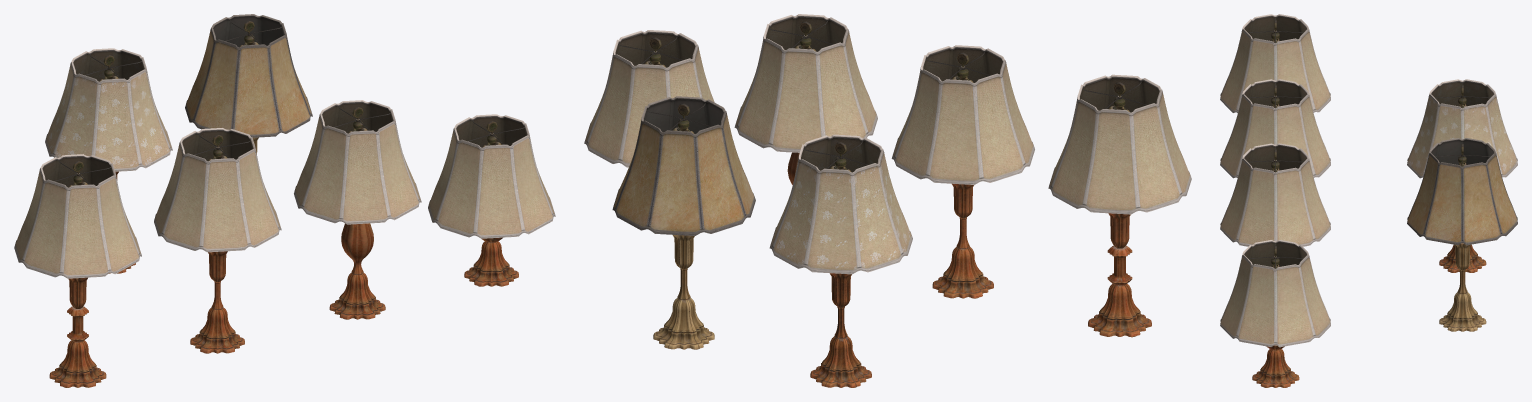
Rendered from 1920s_table_lamps_type_a.glb.
3 views of the same model, side by side, from view 1: azimuth 30°, elevation 25°; view 2: azimuth 150°, elevation 25°; view 3: azimuth 270°, elevation 25° (orthographic). The views are drawn at different scales.
Parts seen in each view (by area): view 1: 1920s Table Lamp Type AC_2, 1920s Table Lamp Type AA_0, 1920s Table Lamp Type AB_1, 1920s Table Lamp Type AD_3, 1920s Table Lamp Type AB Wood Lacquer_5, 1920s Table Lamp Type AB Wood02_4; view 2: 1920s Table Lamp Type AA_0, 1920s Table Lamp Type AB Wood Lacquer_5, 1920s Table Lamp Type AB_1, 1920s Table Lamp Type AB Wood02_4, 1920s Table Lamp Type AC_2, 1920s Table Lamp Type AD_3; view 3: 1920s Table Lamp Type AB Wood Lacquer_5, 1920s Table Lamp Type AD_3, 1920s Table Lamp Type AC_2, 1920s Table Lamp Type AB Wood02_4, 1920s Table Lamp Type AA_0, 1920s Table Lamp Type AB_1.
Boxes of the visible parts, left/top/right/bottom form: 1920s Table Lamp Type AC_2: left=294, top=100, right=421, bottom=319; 1920s Table Lamp Type AA_0: left=14, top=154, right=141, bottom=387; 1920s Table Lamp Type AB_1: left=154, top=128, right=281, bottom=353; 1920s Table Lamp Type AD_3: left=428, top=114, right=555, bottom=286; 1920s Table Lamp Type AB Wood Lacquer_5: left=185, top=14, right=312, bottom=154; 1920s Table Lamp Type AB Wood02_4: left=45, top=48, right=172, bottom=273; 1920s Table Lamp Type AA_0: left=1048, top=74, right=1191, bottom=337; 1920s Table Lamp Type AB Wood Lacquer_5: left=612, top=96, right=755, bottom=349; 1920s Table Lamp Type AB_1: left=891, top=45, right=1034, bottom=298; 1920s Table Lamp Type AB Wood02_4: left=769, top=134, right=912, bottom=387; 1920s Table Lamp Type AC_2: left=734, top=14, right=877, bottom=184; 1920s Table Lamp Type AD_3: left=584, top=30, right=714, bottom=167; 1920s Table Lamp Type AB Wood Lacquer_5: left=1407, top=138, right=1517, bottom=331; 1920s Table Lamp Type AD_3: left=1220, top=240, right=1330, bottom=387; 1920s Table Lamp Type AC_2: left=1220, top=143, right=1330, bottom=246; 1920s Table Lamp Type AB Wood02_4: left=1407, top=79, right=1517, bottom=272; 1920s Table Lamp Type AA_0: left=1220, top=14, right=1330, bottom=113; 1920s Table Lamp Type AB_1: left=1220, top=79, right=1330, bottom=178.
Bounding box in the file's own units: 2.1 × 0.8272 × 1.2.
Materials: 3 (3 with a texture image).
